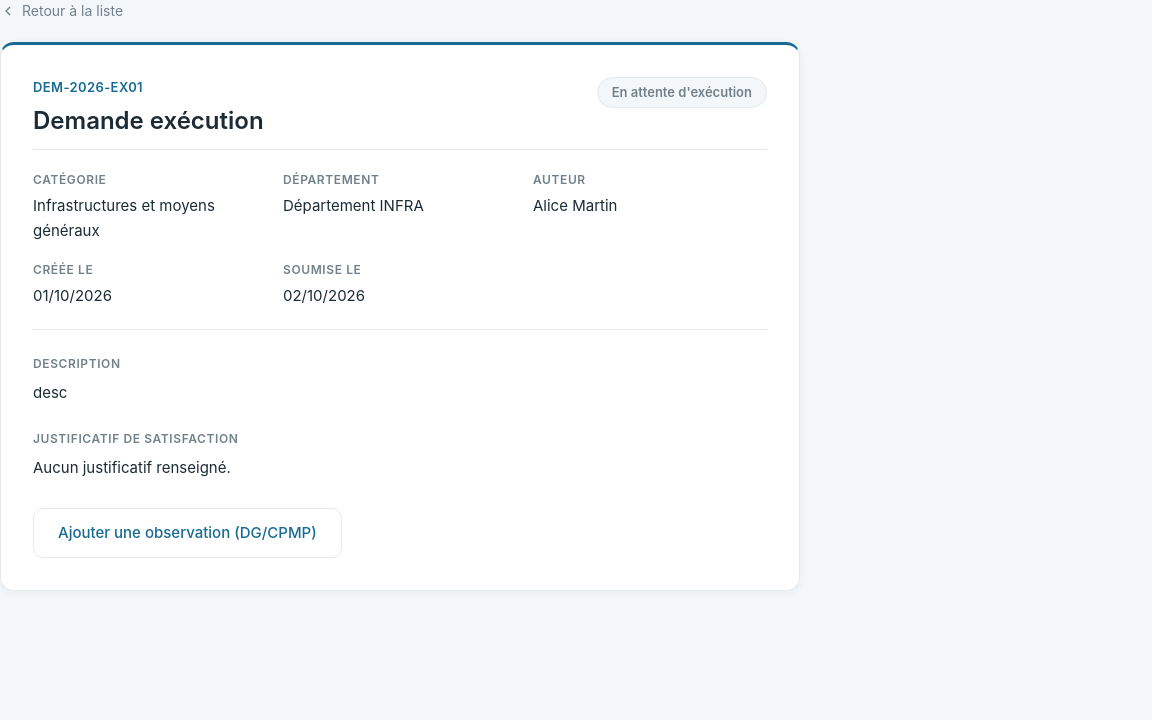
Scenario: exec UI : l'observation DG/CPMP exige un commentaire
Click the button "Ajouter une observation (DG/CPMP)". click: (187, 533)
box: [33, 508, 342, 558]
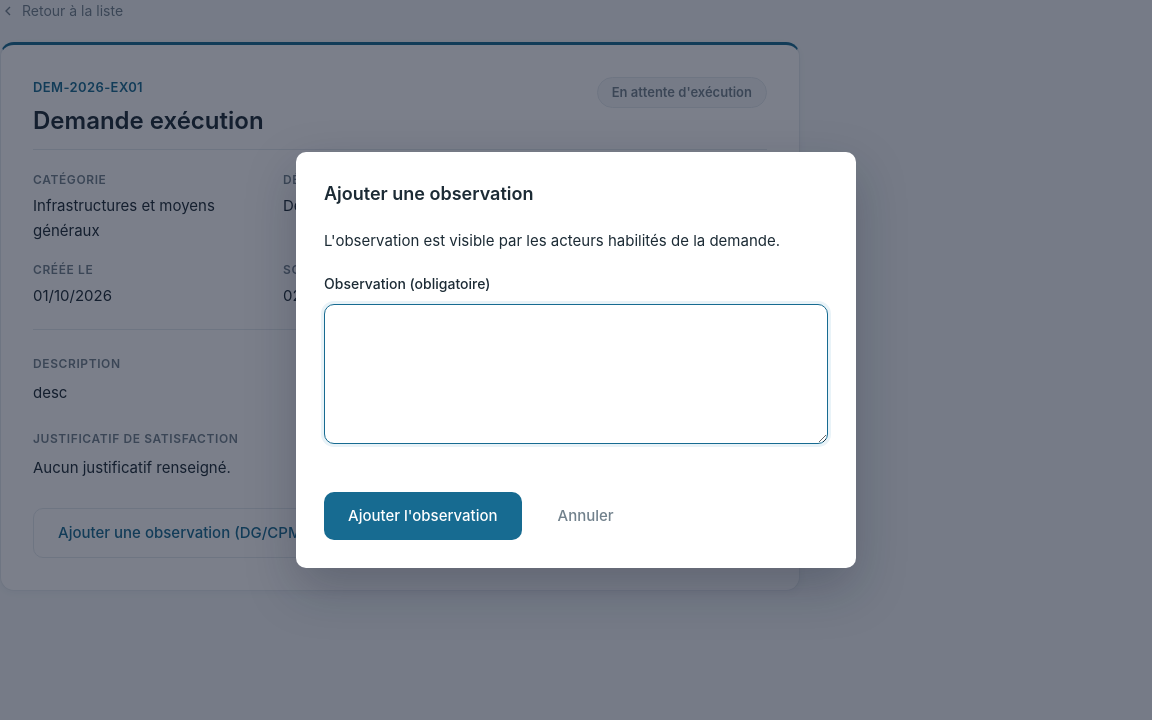
Click the button "Ajouter l'observation". click: (423, 516)
box: [324, 492, 522, 540]
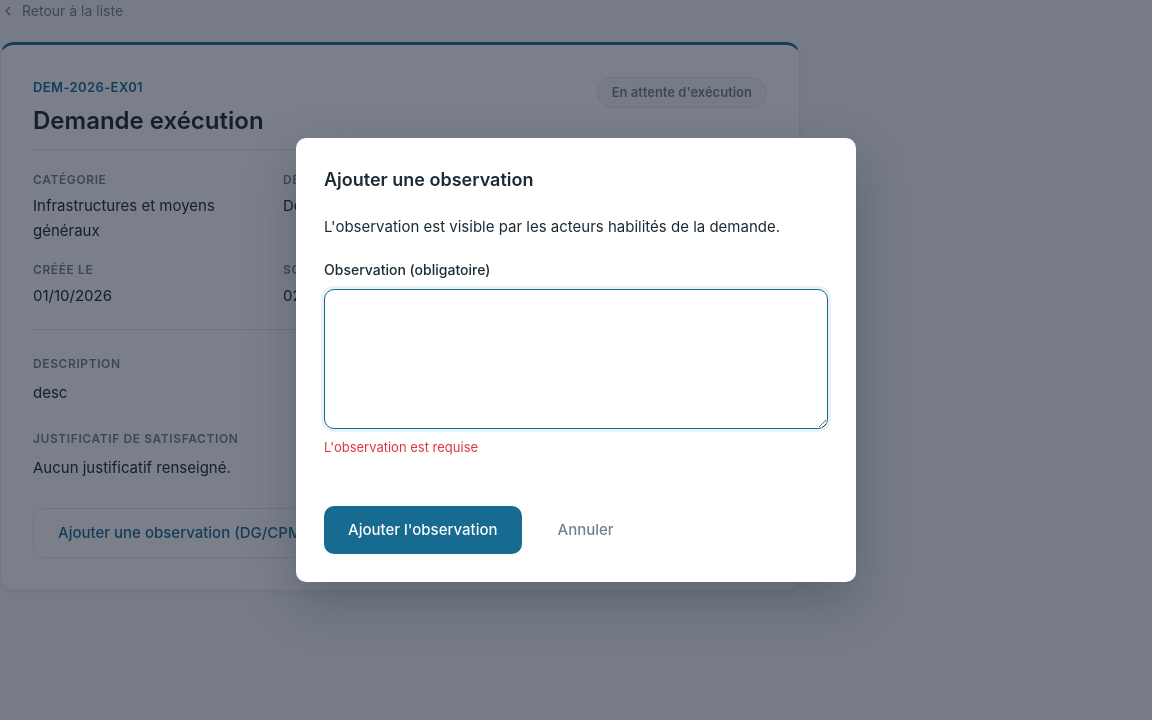
Result: the message "L'observation est requise" is shown at [324, 439, 478, 455]
